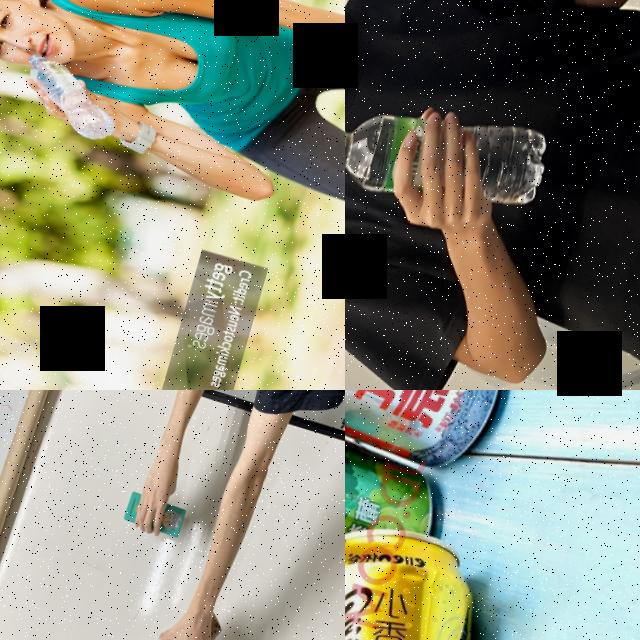bottle: (345, 80, 550, 241), (9, 49, 130, 144)
can: (345, 390, 465, 619), (345, 506, 540, 640), (345, 390, 535, 484)
cup: (145, 597, 226, 640)
